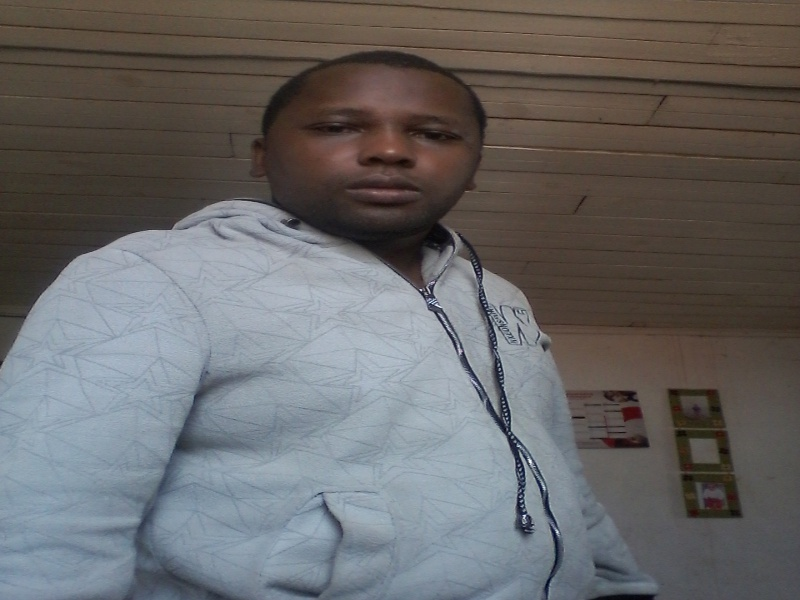TsisyArotava: (255, 48, 512, 262)
